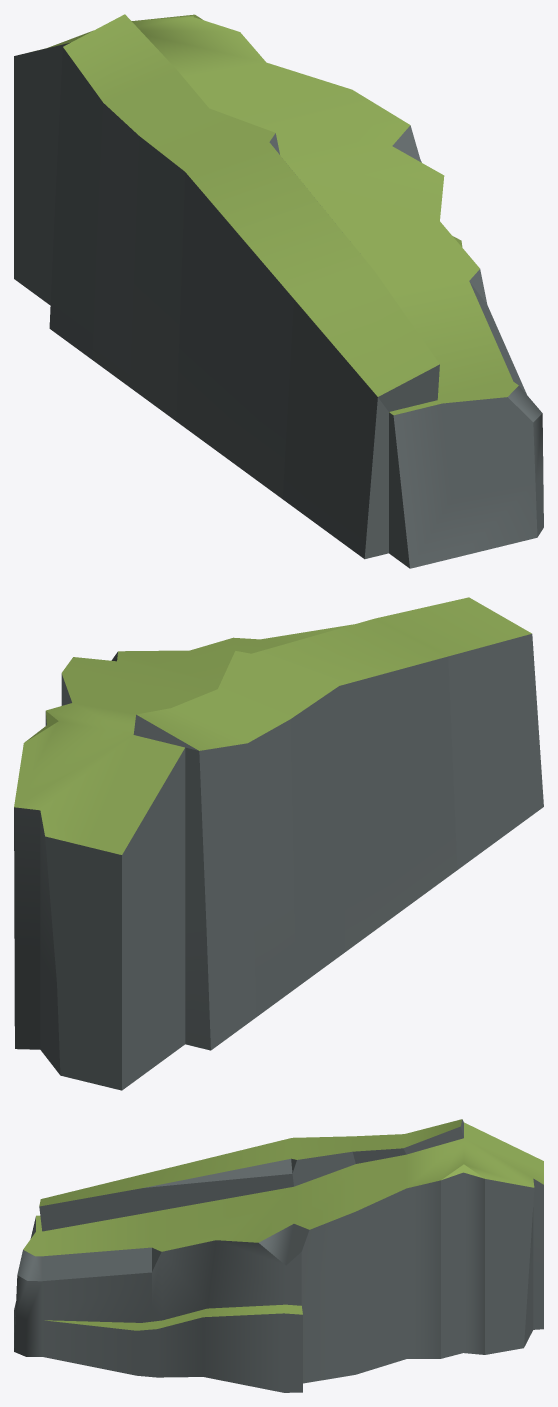
File: rock03.fbx
3 renders of one model, top to bottom at view 1: azimuth 30°, elevation 25°; view 2: azimuth 150°, elevation 25°; view 3: azimuth 270°, elevation 25°, orthographic. The views are drawn at different scales.
Parts seen in each view (by area): view 1: pCube8; view 2: pCube8; view 3: pCube8.
Part boxes in pixels (left/top/right/bottom): pCube8: left=14, top=14, right=543, bottom=568; pCube8: left=14, top=597, right=543, bottom=1090; pCube8: left=14, top=1119, right=543, bottom=1392.
Bounding box in the file's own units: 28.17 × 28.94 × 69.63.
